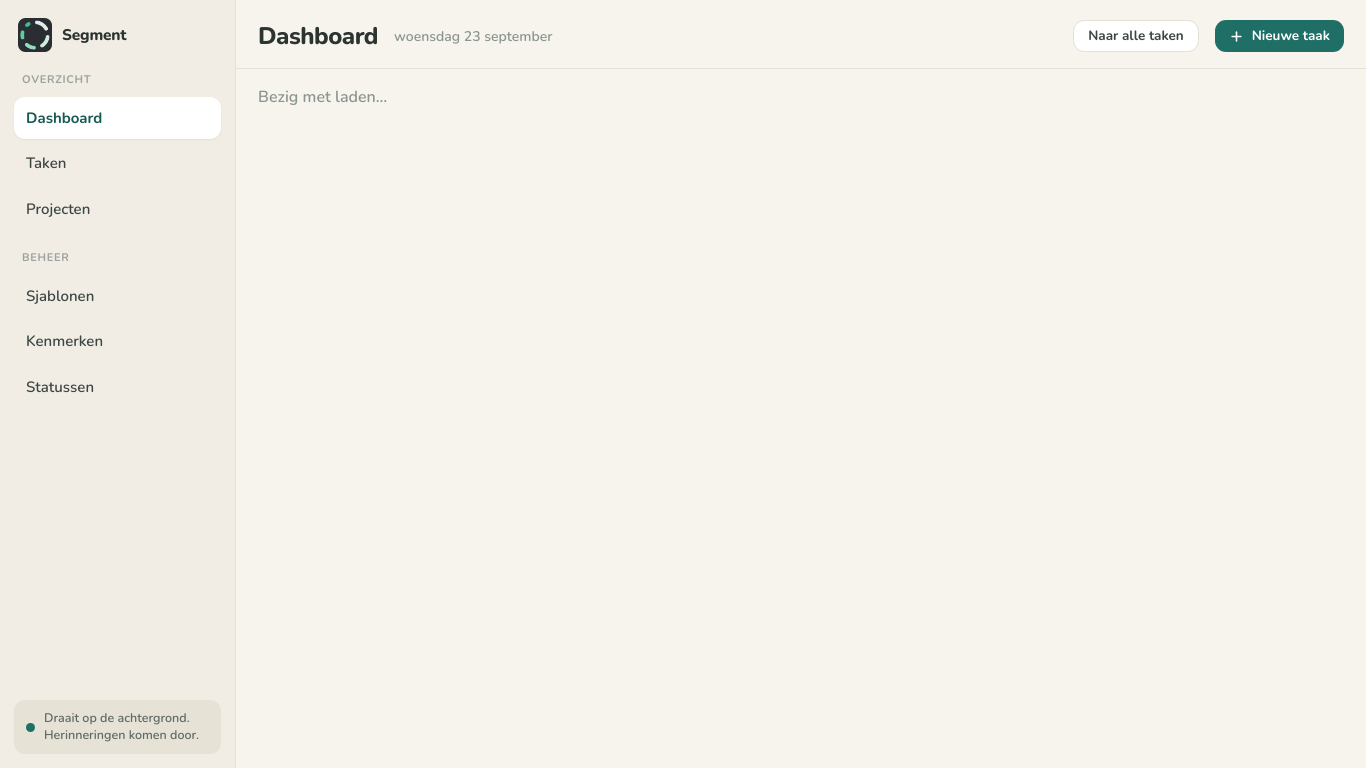
Test: kanban (§8) › het bord toont een kolom per status en '+' opent snel-toevoegen met die status
Click the link "Taken". click: (46, 163)
box: [26,153,66,173]
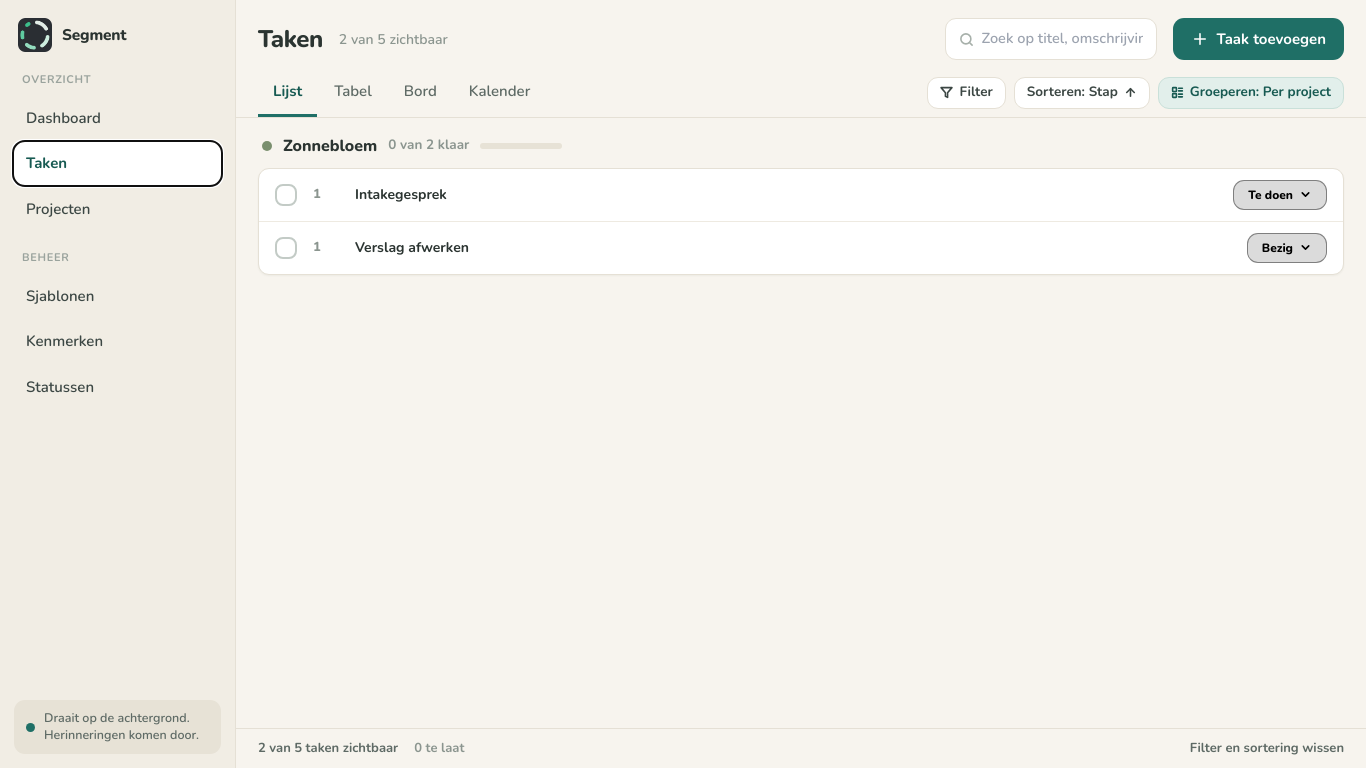
Check: the heading "Taken" is shown, box [258,21,323,57]
Click the button "Bord". click: (420, 94)
box: [389,72,452,116]
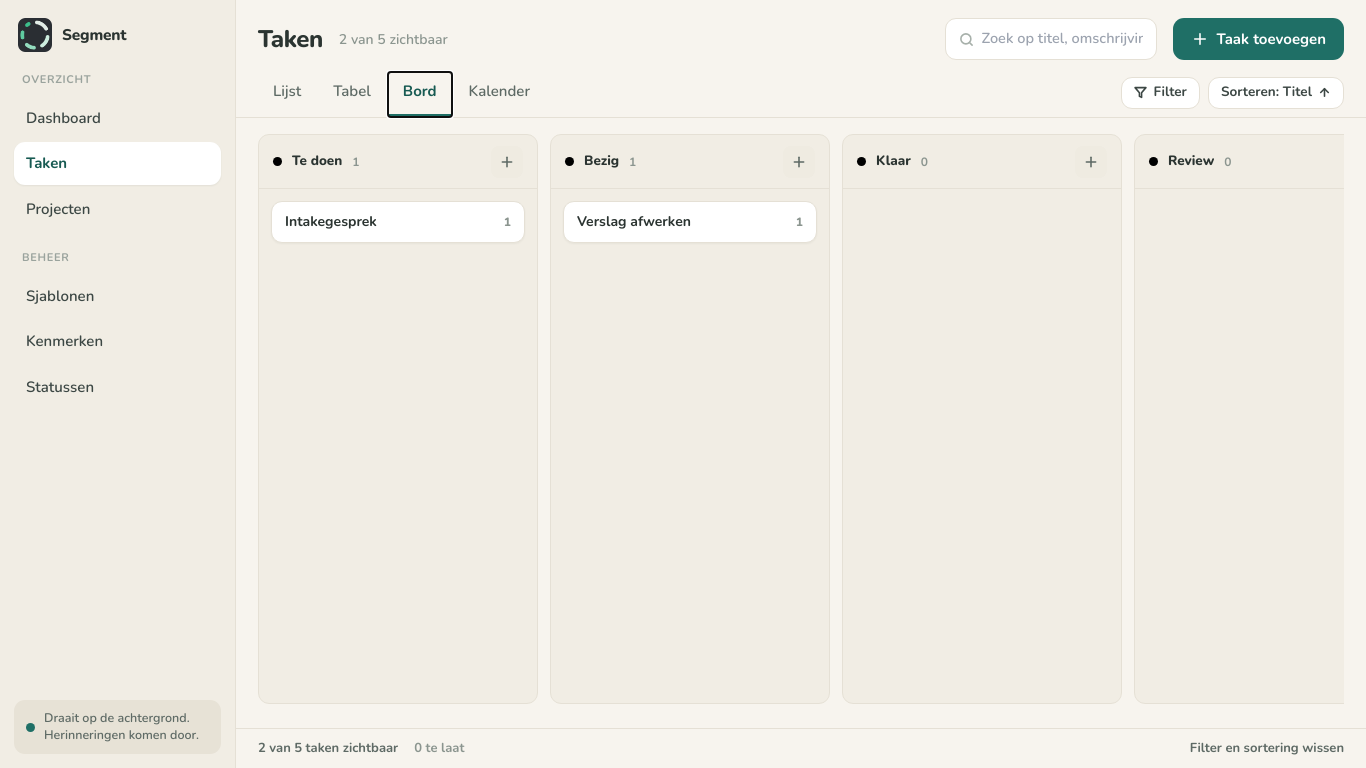
Check: the text "Te doen" is shown, box [292,151,342,172]
Check: the text "Klaar" is shown, box [876,151,911,172]
Check: the text "Review" is shown, box [1168,151,1214,172]
Click the button named "Taak toevoegen in Bezig". click: (799, 162)
box: [783,146,815,178]
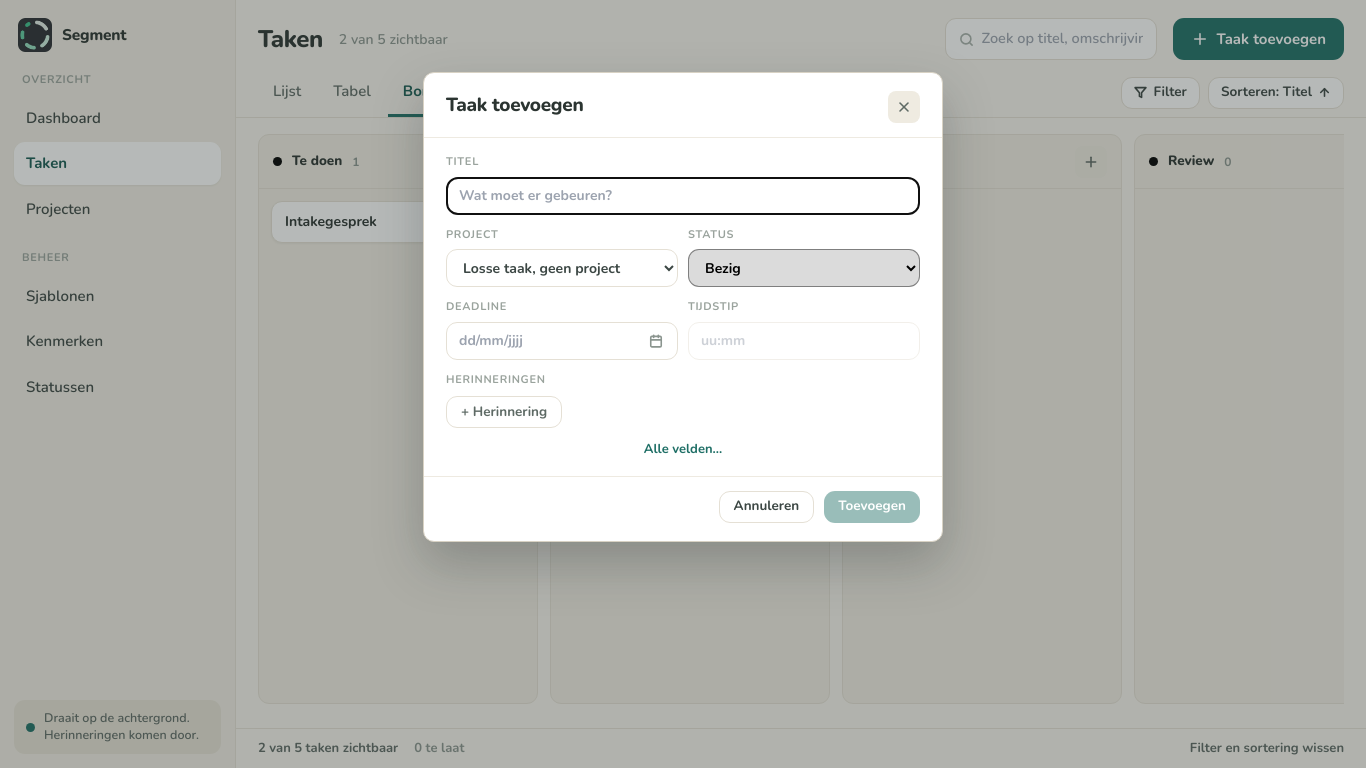
Check: the dropdown labelled "Status" shows "Bezig", box [688,249,920,287]
